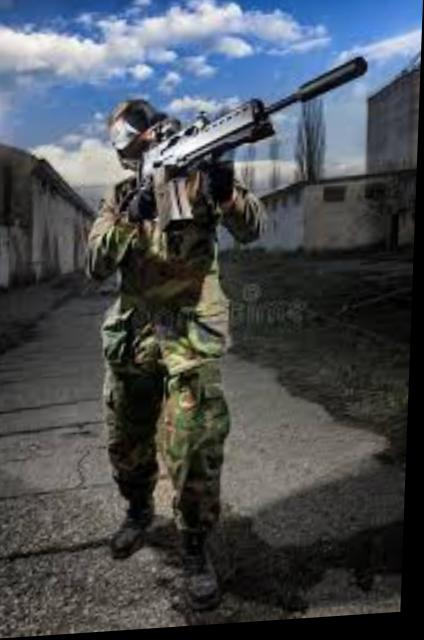other: (78, 97, 260, 608)
